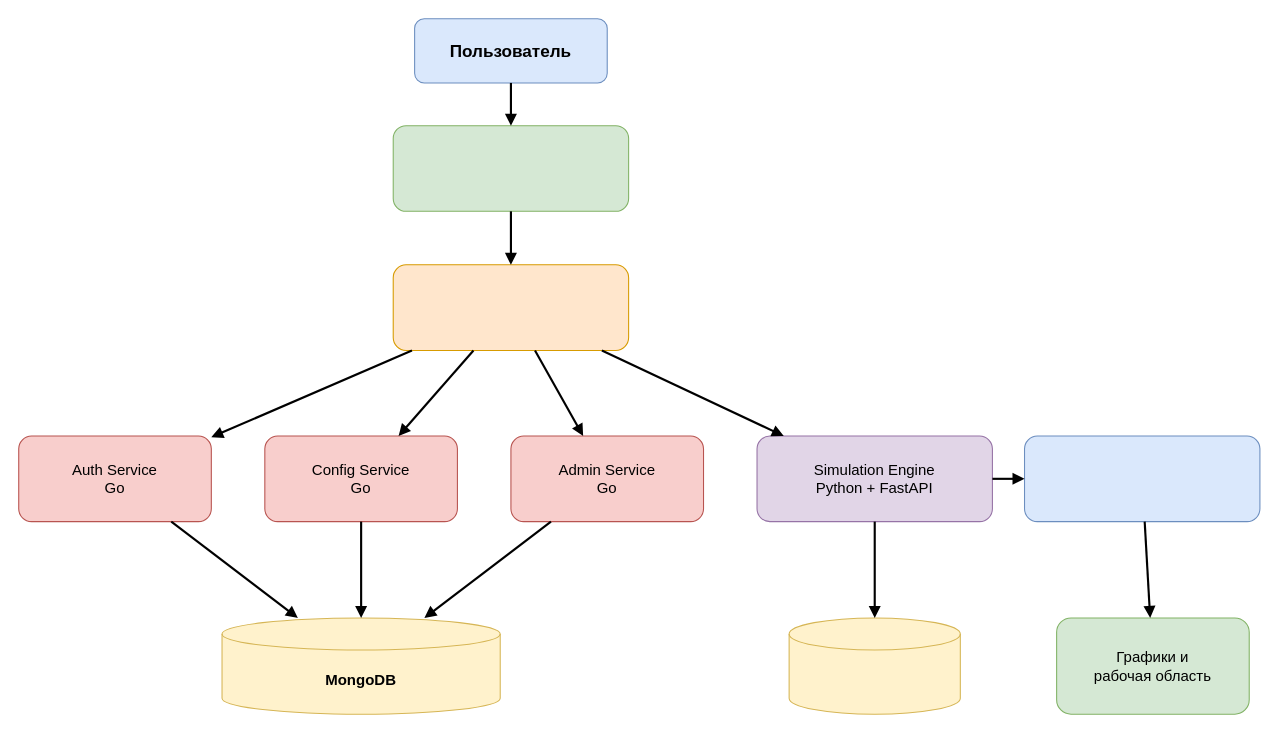
This 1279x733 diagram has some shape labels left out. The shapes that lost their labels are listed below. From the top down, each one's centre as x and y in pixels, then its label:
point (510, 168): Frontend React + Vite
point (510, 307): Gateway Service Go
point (1141, 478): Расчетное ядро Trajectory Calculator
point (874, 665): Redis
